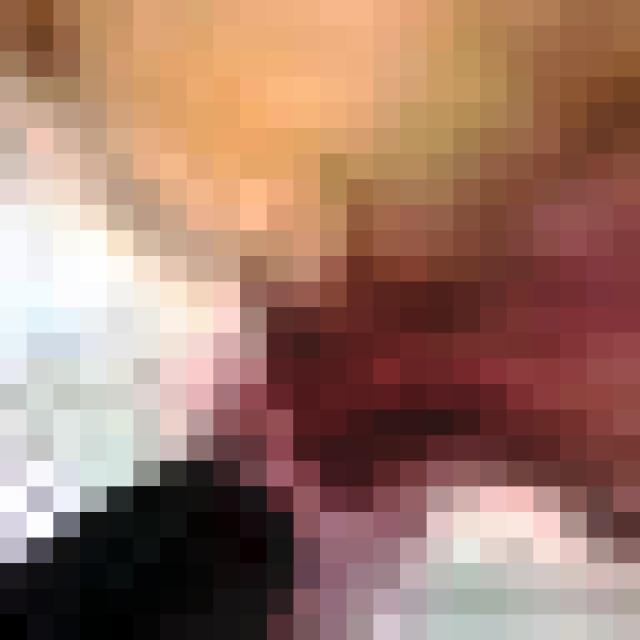arms: (0, 358, 293, 639)
